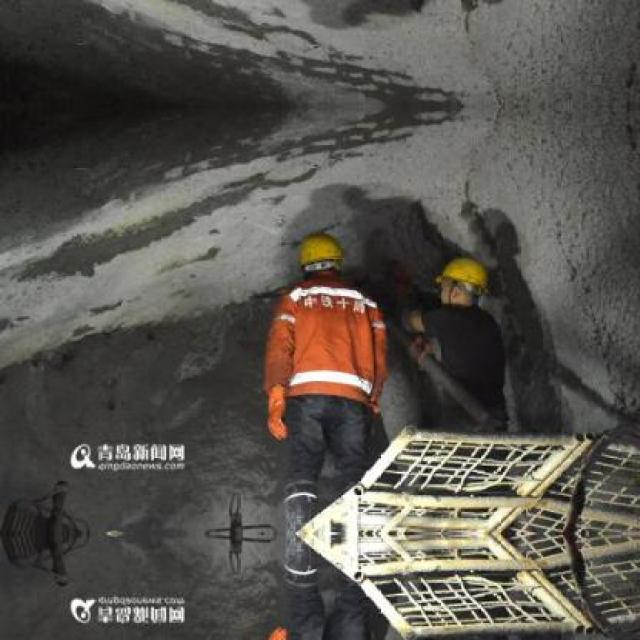helmet: (432, 252, 491, 308), (297, 232, 349, 286)
